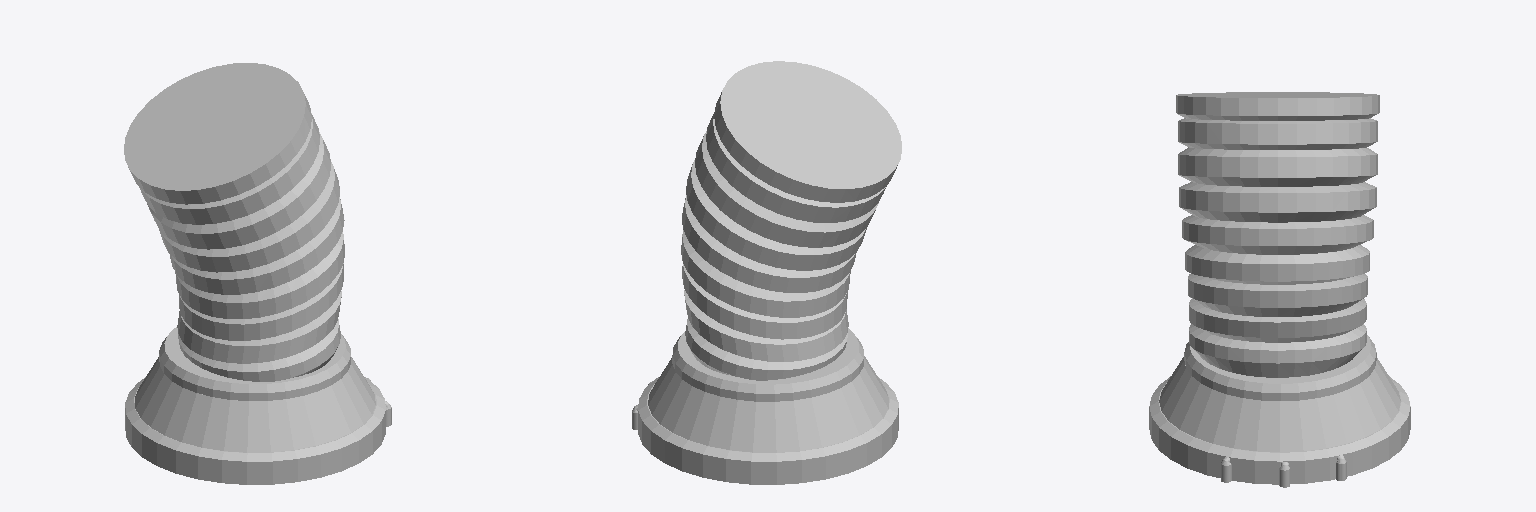
Rendered from pata_trasera_der.obj.
3 renders of one model, left to right at view 1: azimuth 30°, elevation 25°; view 2: azimuth 150°, elevation 25°; view 3: azimuth 270°, elevation 25°, orthographic.
Parts seen in each view (by area): view 1: C_rculo_007_C_rculo_008, C_rculo_015_C_rculo_016, C_rculo_014_C_rculo_015, C_rculo_016_C_rculo_017; view 2: C_rculo_007_C_rculo_008, C_rculo_015_C_rculo_016, C_rculo_014_C_rculo_015, C_rculo_016_C_rculo_017; view 3: C_rculo_007_C_rculo_008, C_rculo_015_C_rculo_016, C_rculo_014_C_rculo_015, C_rculo_016_C_rculo_017, Cilindro_001_Cilindro_006.
Boxes of the visible parts, x1,y1,x2,y2 form: C_rculo_007_C_rculo_008: [124, 63, 344, 381]; C_rculo_015_C_rculo_016: [135, 357, 375, 452]; C_rculo_014_C_rculo_015: [125, 377, 385, 484]; C_rculo_016_C_rculo_017: [159, 327, 350, 400]; C_rculo_007_C_rculo_008: [681, 61, 901, 380]; C_rculo_015_C_rculo_016: [648, 356, 888, 452]; C_rculo_014_C_rculo_015: [638, 377, 898, 484]; C_rculo_016_C_rculo_017: [672, 328, 863, 401]; C_rculo_007_C_rculo_008: [1176, 92, 1379, 377]; C_rculo_015_C_rculo_016: [1159, 357, 1400, 451]; C_rculo_014_C_rculo_015: [1149, 376, 1410, 484]; C_rculo_016_C_rculo_017: [1184, 335, 1376, 400]; Cilindro_001_Cilindro_006: [1221, 455, 1346, 487].
Bounding box in the file's own units: 1.07 × 1.51 × 1.03.